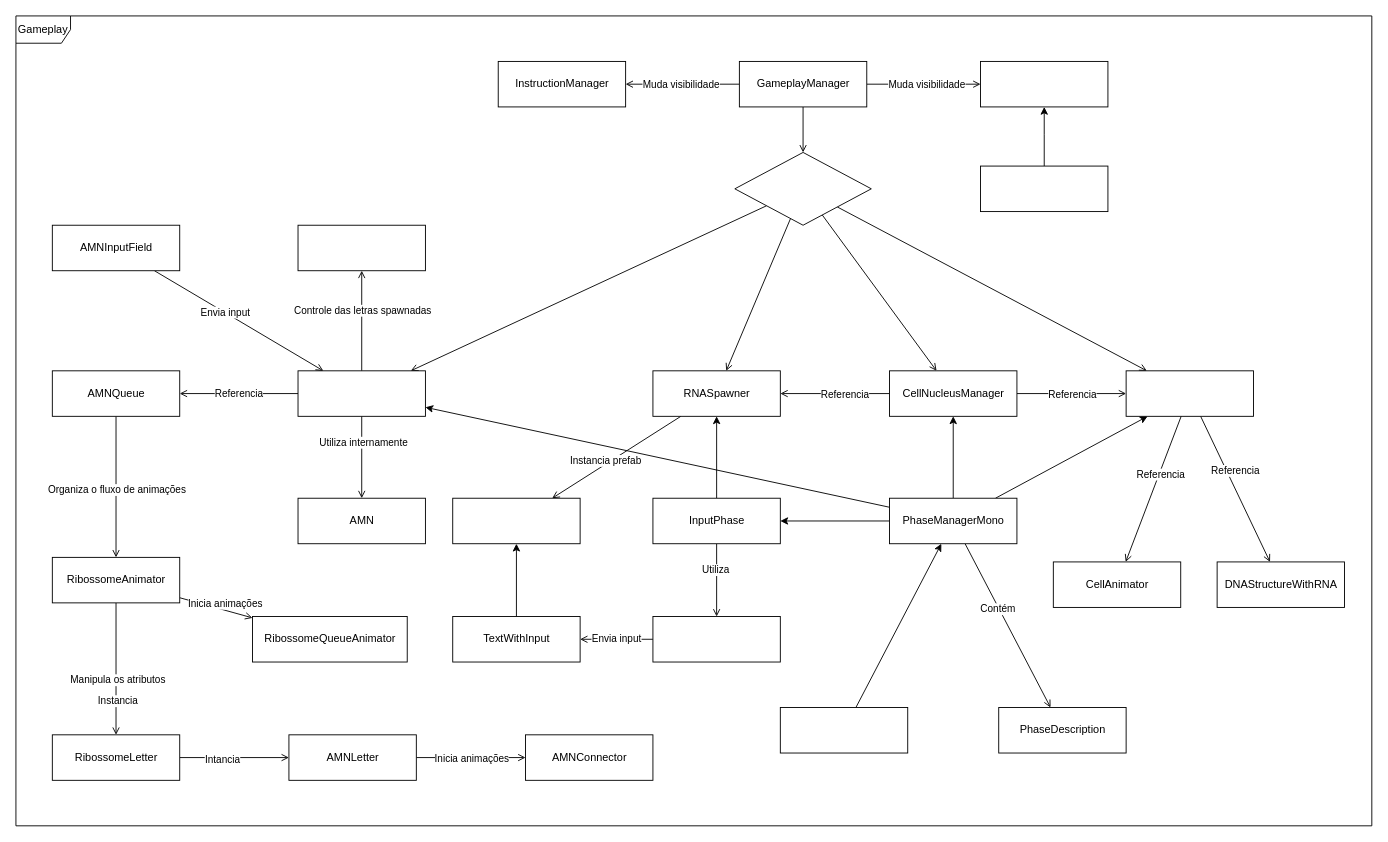
This 1388x842 diagram has some shape labels left out. The centre of each missing label's shape, as x and y in pixels:
"AMNManager" goes at pixel 361 393.
"AMNSpawner" goes at pixel 361 247.
"DNAManager" goes at pixel 1189 393.
"InputFieldChield" goes at pixel 716 639.
"MissionManager" goes at pixel 1044 84.
"PhaseManager:interface" goes at pixel 843 730.
"RNA" goes at pixel 516 520.
"Utiliza um por vez" goes at pixel 802 188.
"WaitManager" goes at pixel 1044 188.
